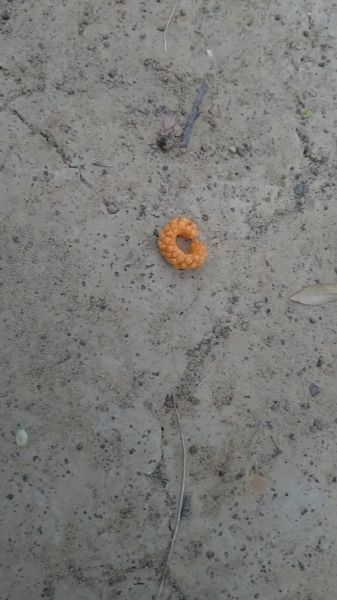eggs: (160, 210, 213, 276)
